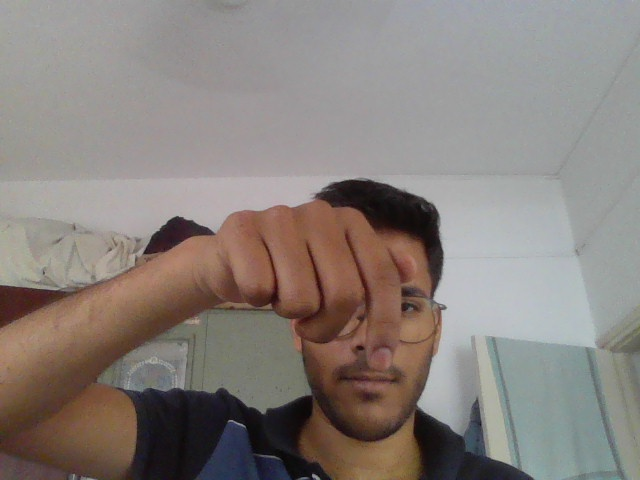yes: (208, 187, 432, 388)
